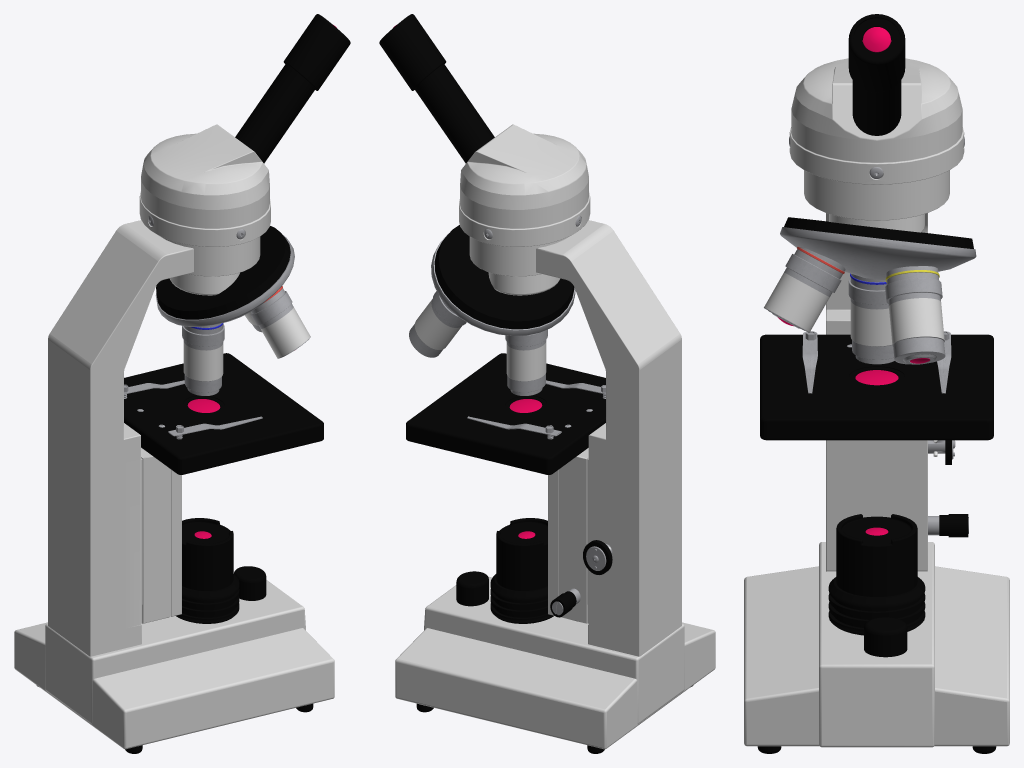
The model's file is microscope.glb.
The picture shows the model from 3 angles, left to right: view 1: azimuth 30°, elevation 25°; view 2: azimuth 150°, elevation 25°; view 3: azimuth 270°, elevation 25°; orthographic projection. The views are drawn at different scales.
Parts seen in each view (by area): view 1: Cube.017, Cube.015, Cylinder.036, Cube.018, Cube.016, Cylinder.029, Cylinder.020, Cylinder.011, Cylinder.040, Cylinder.039, Cylinder.035, Cylinder.041 (+1 smaller); view 2: Cube.017, Cube.015, Cylinder.036, Cube.018, Cube.016, Cylinder.020, Cylinder.029, Cylinder.011, Cylinder.040, Cylinder.039, Cylinder.035, Cylinder.041 (+2 smaller); view 3: Cube.015, Cylinder.036, Cube.018, Cube.016, Cylinder.011, Cube.017, Cylinder.020, Cylinder.040, Cylinder.029, Cylinder.039, Cylinder.041, Plane.011 (+3 smaller).
Boxes of the visible parts, box(x1,y1,x2,y2) form: Cube.017: box(48, 220, 193, 656); Cube.015: box(14, 622, 334, 749); Cylinder.036: box(139, 124, 270, 276); Cube.018: box(124, 353, 323, 474); Cube.016: box(45, 580, 305, 723); Cylinder.029: box(235, 14, 350, 163); Cylinder.020: box(155, 226, 294, 326); Cylinder.011: box(182, 286, 310, 395); Cylinder.040: box(182, 518, 233, 590); Cylinder.039: box(176, 574, 239, 623); Cylinder.035: box(170, 272, 239, 295); Cylinder.041: box(234, 566, 266, 600); Cube.017: box(536, 220, 681, 656); Cube.015: box(395, 622, 715, 749); Cylinder.036: box(459, 124, 590, 276); Cube.018: box(406, 353, 605, 474); Cube.016: box(424, 576, 684, 723); Cylinder.020: box(431, 225, 575, 335); Cylinder.029: box(379, 14, 494, 163); Cylinder.011: box(409, 291, 547, 395); Cylinder.040: box(496, 518, 547, 590); Cylinder.039: box(490, 574, 553, 623); Cylinder.035: box(488, 272, 559, 295); Cylinder.041: box(456, 571, 488, 606); Cube.015: box(744, 566, 1009, 746); Cylinder.036: box(789, 58, 964, 220); Cube.018: box(760, 334, 993, 440); Cube.016: box(819, 542, 934, 747); Cylinder.011: box(764, 247, 945, 364); Cube.017: box(826, 213, 927, 571); Cylinder.020: box(780, 217, 976, 279); Cylinder.040: box(836, 514, 917, 596); Cylinder.029: box(848, 14, 905, 135); Cylinder.039: box(828, 577, 925, 635); Cylinder.041: box(864, 617, 907, 657); Plane.011: box(802, 331, 951, 393).
Size of the model in its own units: 0.9516 by 2.11 by 0.6583.
Materials: 10 (2 with a texture image).
